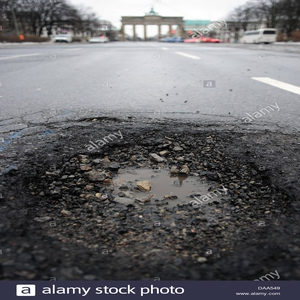pothole: (17, 122, 278, 273)
